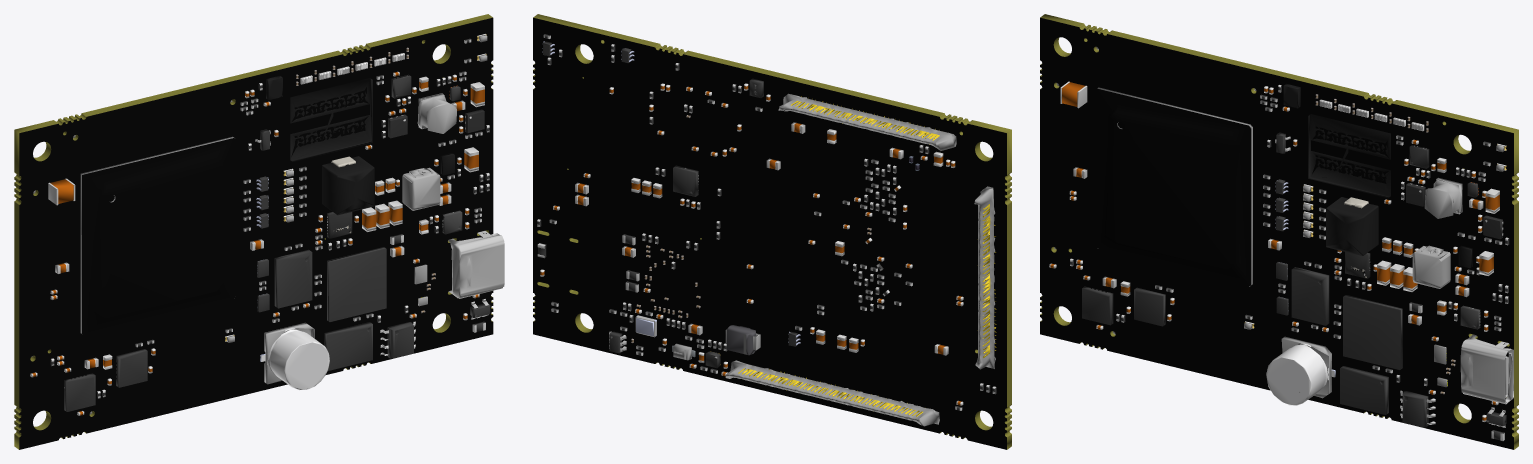
The model's file is XEM8305_Display.glb.
3 views of the same model, side by side, from view 1: azimuth 30°, elevation 25°; view 2: azimuth 150°, elevation 25°; view 3: azimuth 330°, elevation 25° (orthographic).
Visible parts, largest first — view 1: Open CASCADE STEP translator 7.5 1.1.1:1 / display decode, U1 (1):1 / display decode, U4:1 / display decode, U29:1 / display decode, C86:1 / display decode, J3:1 / display decode, L3:1 / display decode, U25:1 / display decode, U35:1 / display decode, L1:1 / display decode, L2:1 / display decode, U8:1 / display decode (+4 smaller); view 2: Open CASCADE STEP translator 7.5 1.1.1:1 / display decode, ERM6-50-01.5-L-DV-A-K-TR_H:1 / display decode, MC2:2 / display decode, MC2:1 / display decode, ERM6-50-01.5-L-DV-A-K-TR_P:1 / display decode, D7:1 / display decode, =>[0:1:1:39] / display decode; view 3: Open CASCADE STEP translator 7.5 1.1.1:1 / display decode, U1 (1):1 / display decode, U4:1 / display decode, U29:1 / display decode, C86:1 / display decode, J3:1 / display decode, L3:1 / display decode, U25:1 / display decode, U35:1 / display decode, L1:1 / display decode, L2:1 / display decode, U8:2 / display decode (+4 smaller).
Boxes of the visible parts, <box> form: Open CASCADE STEP translator 7.5 1.1.1:1 / display decode: <box>14,14,493,449</box>; U1 (1):1 / display decode: <box>80,136,236,335</box>; U4:1 / display decode: <box>290,78,372,161</box>; U29:1 / display decode: <box>327,247,386,321</box>; C86:1 / display decode: <box>260,322,329,390</box>; J3:1 / display decode: <box>448,231,504,298</box>; L3:1 / display decode: <box>322,156,374,215</box>; U25:1 / display decode: <box>274,249,312,308</box>; U35:1 / display decode: <box>324,322,372,370</box>; L1:1 / display decode: <box>402,167,440,210</box>; L2:1 / display decode: <box>417,93,456,133</box>; U8:1 / display decode: <box>64,373,95,411</box>; Open CASCADE STEP translator 7.5 1.1.1:1 / display decode: <box>533,14,1011,449</box>; ERM6-50-01.5-L-DV-A-K-TR_H:1 / display decode: <box>725,360,939,426</box>; MC2:2 / display decode: <box>974,186,996,369</box>; MC2:1 / display decode: <box>778,93,956,150</box>; ERM6-50-01.5-L-DV-A-K-TR_P:1 / display decode: <box>738,368,922,416</box>; D7:1 / display decode: <box>725,325,760,355</box>; =>[0:1:1:39] / display decode: <box>673,165,698,196</box>; Open CASCADE STEP translator 7.5 1.1.1:1 / display decode: <box>1040,14,1518,449</box>; U1 (1):1 / display decode: <box>1097,87,1252,286</box>; U4:1 / display decode: <box>1308,114,1390,197</box>; U29:1 / display decode: <box>1343,295,1402,369</box>; C86:1 / display decode: <box>1266,336,1335,405</box>; J3:1 / display decode: <box>1460,334,1513,404</box>; L3:1 / display decode: <box>1326,197,1378,255</box>; U25:1 / display decode: <box>1291,267,1329,325</box>; U35:1 / display decode: <box>1340,366,1388,414</box>; L1:1 / display decode: <box>1412,245,1450,288</box>; L2:1 / display decode: <box>1424,177,1462,218</box>; U8:2 / display decode: <box>1134,287,1165,326</box>.
Size of the model in its own units: 83.15 by 53 by 11.41.
